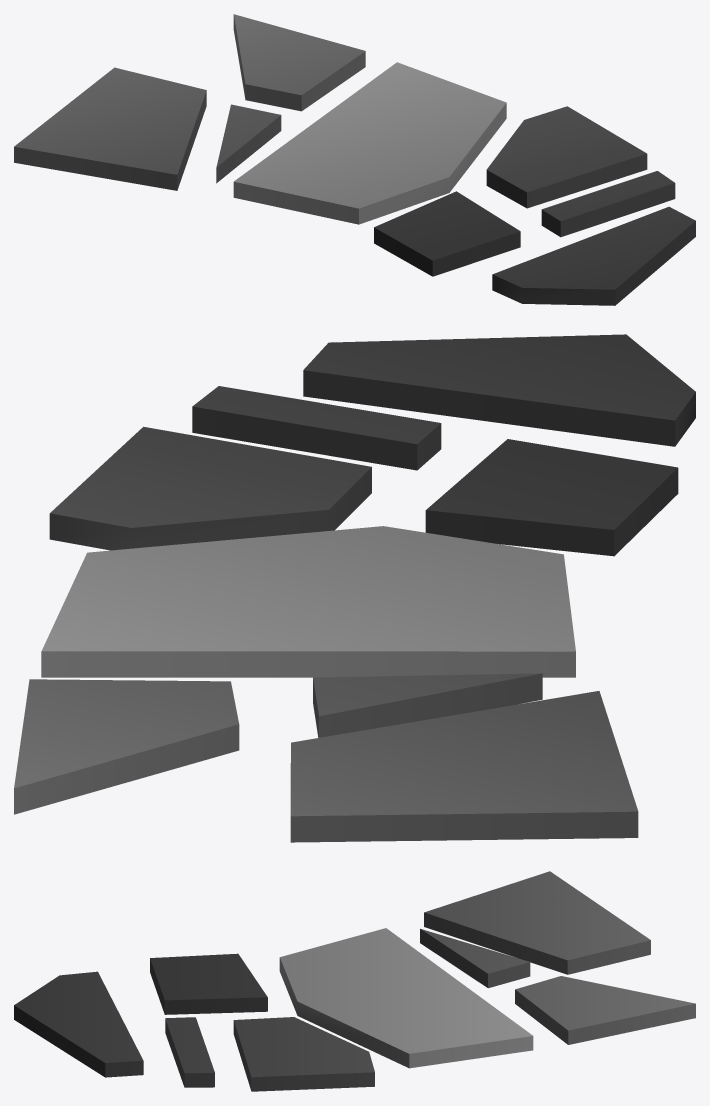
File: stone_pathway_1.glb
3 views of the same model, one above another, from view 1: azimuth 30°, elevation 25°; view 2: azimuth 150°, elevation 25°; view 3: azimuth 270°, elevation 25° (orthographic). The views are drawn at different scales.
Visible parts, largest first — view 1: Object_2; view 2: Object_2; view 3: Object_2.
Part boxes in pixels (left/top/right/bottom): Object_2: left=14, top=14, right=695, bottom=305; Object_2: left=14, top=334, right=695, bottom=842; Object_2: left=14, top=871, right=695, bottom=1091.
Bounding box in the file's own units: 1.55 × 0.0508 × 2.17.
Materials: 1 (1 with a texture image).
